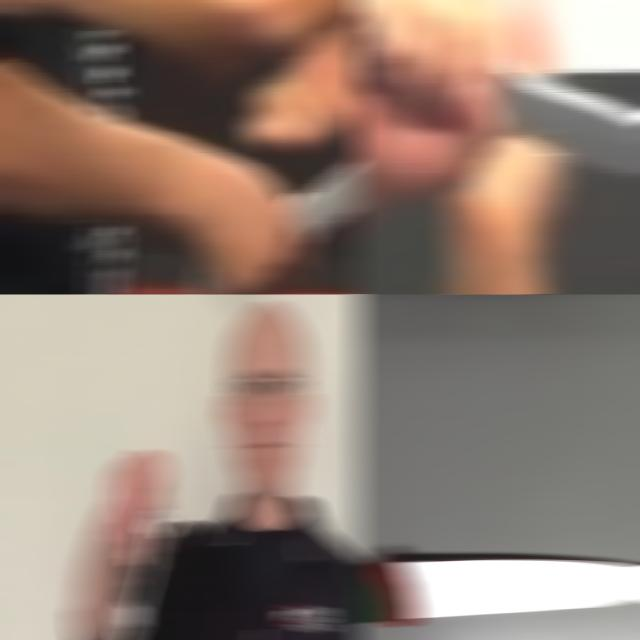Knife: (352, 553, 640, 626), (488, 70, 640, 176), (287, 139, 364, 244)
Knife_Handle: (352, 0, 640, 198), (194, 130, 364, 294), (79, 447, 173, 640)
